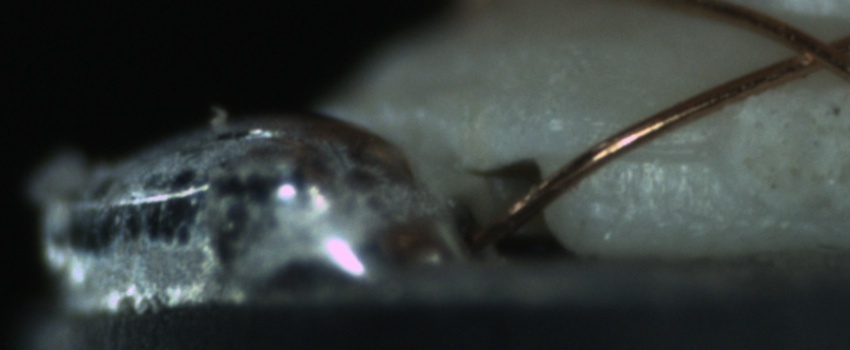CL: (775, 20, 848, 77)
DL: (609, 122, 711, 182)
